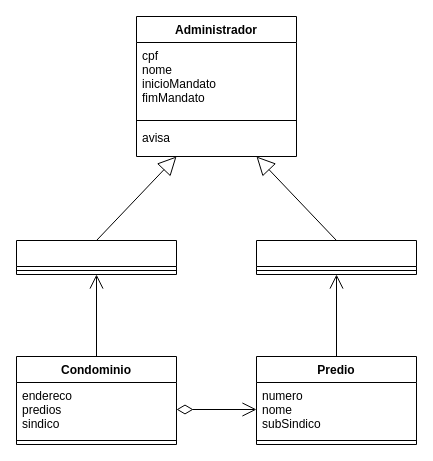
Image size: 433x461. Some labels were removed from this diagram. The centre of each missing label's shape, as x and y in pixels:
"Sindico" belongs at (x=96, y=257).
"SubSindico" belongs at (x=336, y=257).
